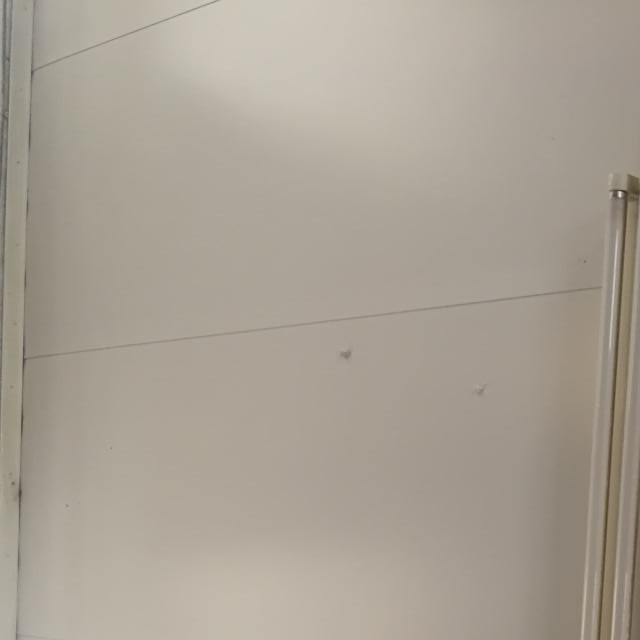fluorescent tube: (506, 156, 640, 640)
